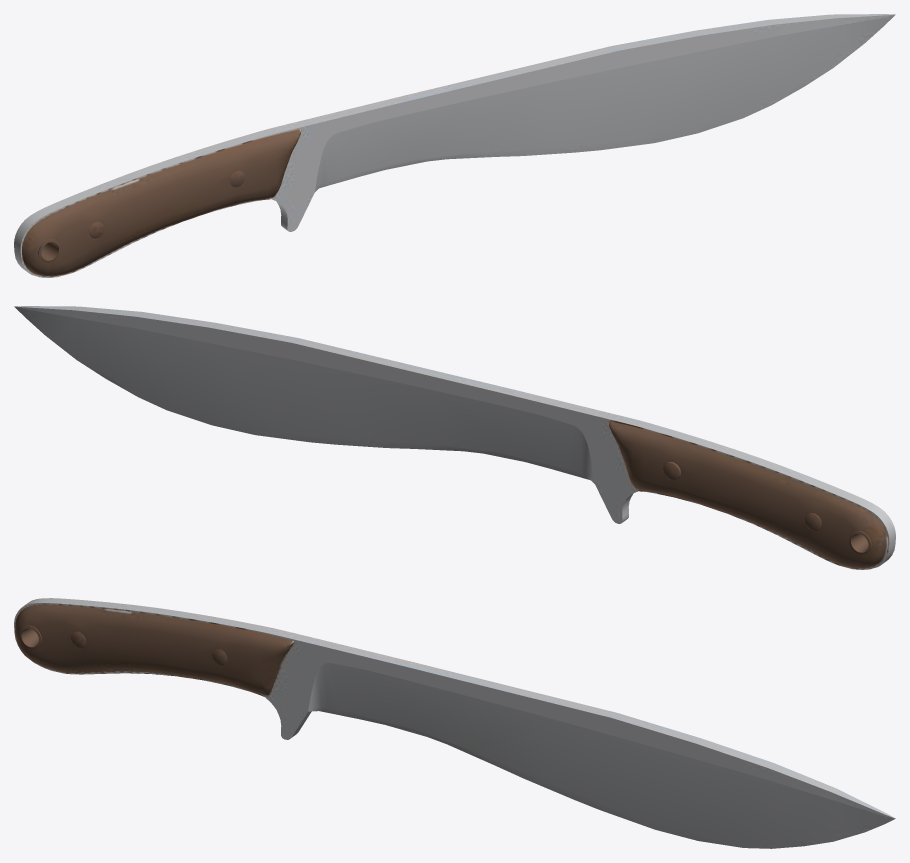
File: machete.glb
3 views of the same model, one above another, from view 1: azimuth 30°, elevation 25°; view 2: azimuth 150°, elevation 25°; view 3: azimuth 330°, elevation 25° (orthographic).
Visible parts, largest first — view 1: machete; view 2: machete; view 3: machete.
Boxes of the visible parts, left/top/right/bottom form: machete: left=14, top=14, right=895, bottom=277; machete: left=14, top=306, right=895, bottom=569; machete: left=14, top=598, right=895, bottom=848.
Size of the model in its own units: 0.55 by 0.0635 by 0.0222.
Materials: 1 (1 with a texture image).
